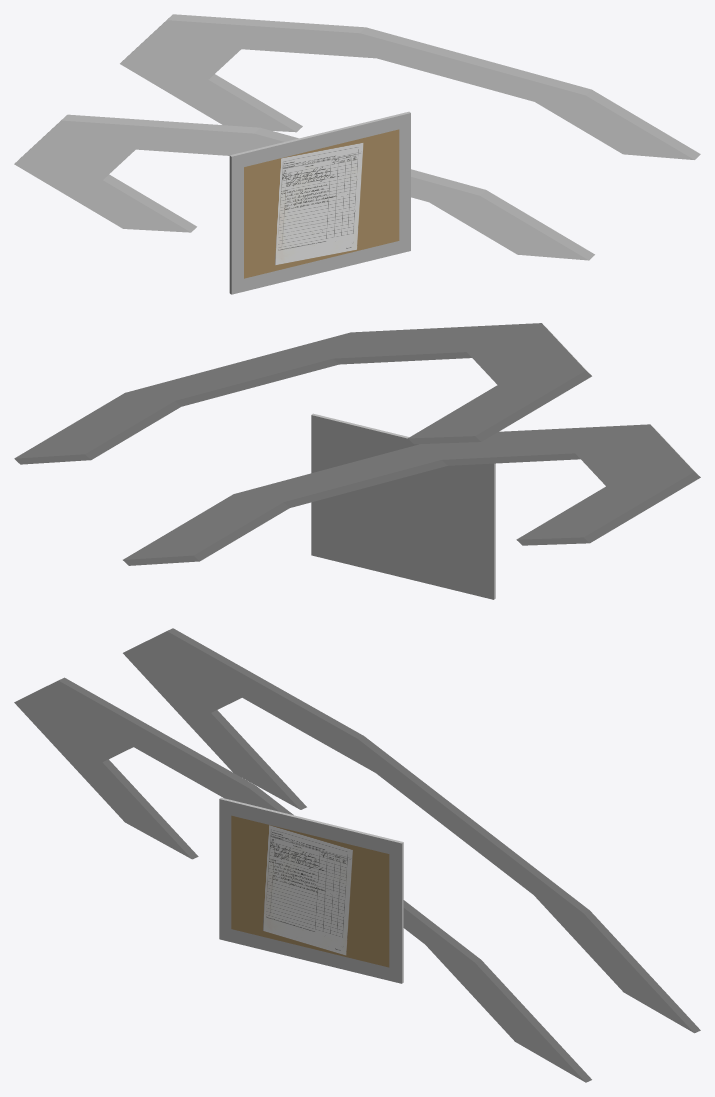
The model's file is PatientRecord.fbx.
The picture shows the model from 3 angles, top to bottom: view 1: azimuth 30°, elevation 25°; view 2: azimuth 150°, elevation 25°; view 3: azimuth 330°, elevation 25°; orthographic projection.
Visible parts, largest first — view 1: hooks, Data, PatientData; view 2: hooks, PatientData; view 3: hooks, Data, PatientData.
Boxes of the visible parts, x1=… form: hooks: x1=14, y1=14, x2=700, y2=260; Data: x1=244, y1=129, x2=399, y2=278; PatientData: x1=229, y1=111, x2=410, y2=294; hooks: x1=14, y1=323, x2=700, y2=565; PatientData: x1=311, y1=413, x2=495, y2=599; hooks: x1=14, y1=628, x2=700, y2=1082; Data: x1=231, y1=815, x2=389, y2=967; PatientData: x1=219, y1=797, x2=403, y2=983.
Bounding box in the file's own units: 759 × 365 × 16.92.
